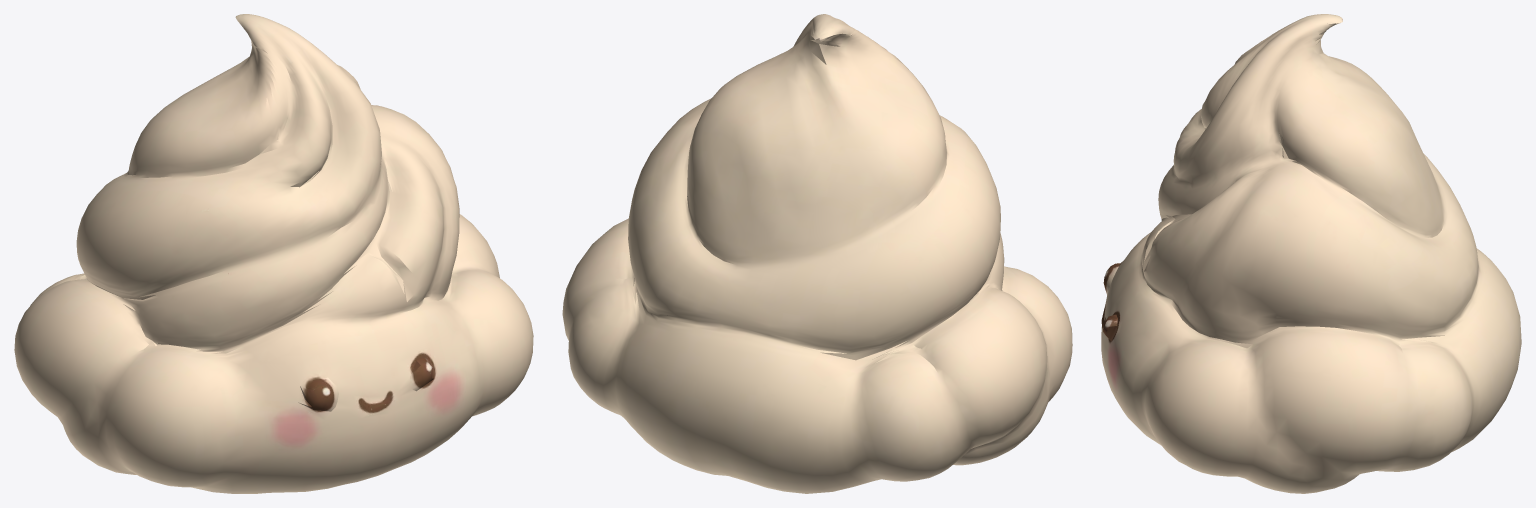
File: cream-cloud.glb
3 renders of one model, left to right at view 1: azimuth 30°, elevation 25°; view 2: azimuth 150°, elevation 25°; view 3: azimuth 270°, elevation 25°, orthographic. The views are drawn at different scales.
Parts seen in each view (by area): view 1: Mesh_0; view 2: Mesh_0; view 3: Mesh_0.
Boxes of the visible parts, x1=… form: Mesh_0: x1=14, y1=14, x2=533, y2=493; Mesh_0: x1=562, y1=14, x2=1072, y2=493; Mesh_0: x1=1101, y1=14, x2=1521, y2=493.
Size of the model in its own units: 1.14 by 1 by 0.9422.
Materials: 1 (1 with a texture image).
